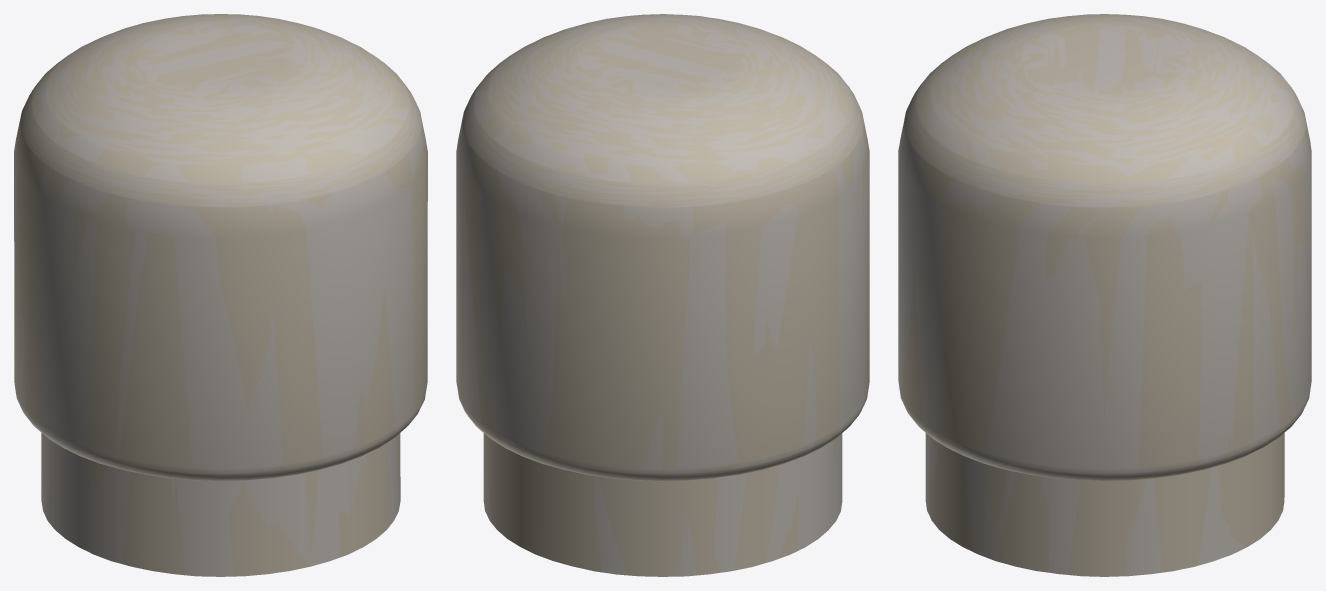
Rendered from original_10.obj.
The picture shows the model from 3 angles, left to right: view 1: azimuth 30°, elevation 25°; view 2: azimuth 150°, elevation 25°; view 3: azimuth 270°, elevation 25°; orthographic projection.
Parts seen in each view (by area): view 1: #ID290; view 2: #ID290; view 3: #ID290.
Boxes of the visible parts, left/top/right/bottom form: #ID290: left=14, top=14, right=427, bottom=576; #ID290: left=456, top=14, right=869, bottom=576; #ID290: left=898, top=14, right=1311, bottom=576.
Size of the model in its own units: 0.3 by 0.3548 by 0.2998.
Materials: 2 (1 with a texture image).
